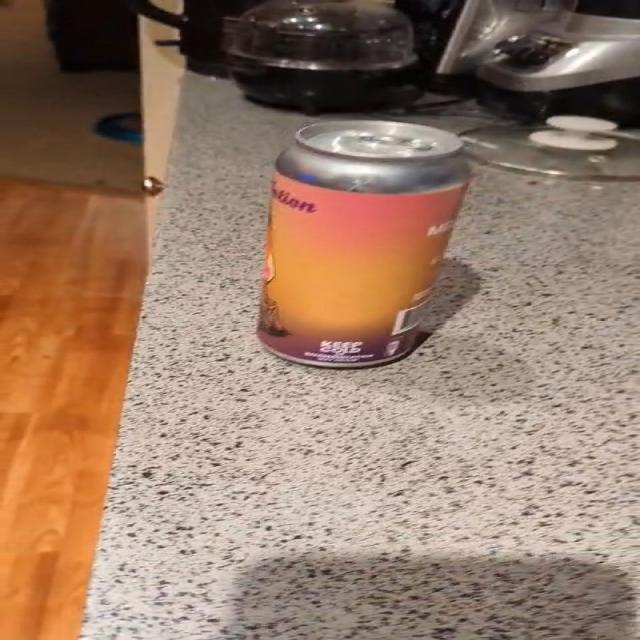metal: (258, 120, 469, 368)
